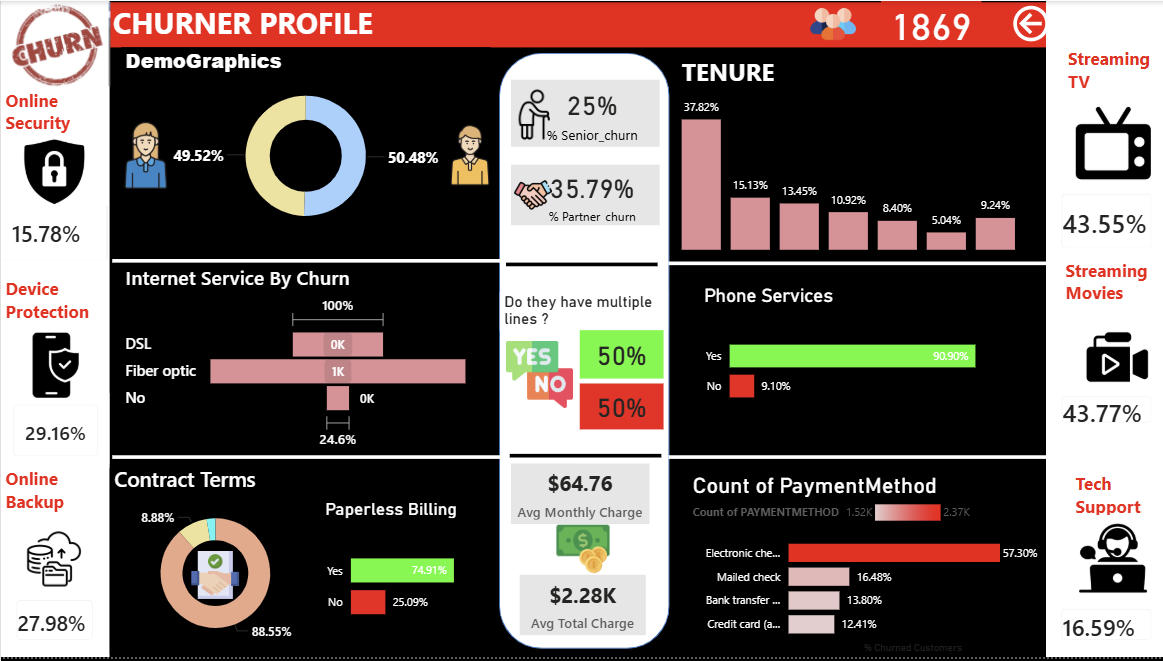

The dashboard page shown, as its layout file describes it:
{"tool":"powerbi","page":{"name":"CHURNER PROFILE","canvas":[1280,720],"ordinal":2},"visuals":[{"type":"textbox","title":"CHURNER PROFILE","box":[118.1,1.3,1161.9,49.6],"z":0},{"type":"card","fields":{"Values":["ChurnDataset.Churned Count"]},"box":[966.2,0,110.6,48.3],"z":1000},{"type":"donutChart","title":"DemoGraphics","fields":{"Category":["ChurnDataset.GENDER"],"Y":["ChurnDataset.Customer Count"]},"box":[132.1,50.1,406,209.1],"z":2000},{"type":"actionButton","box":[1106.1,0,58.5,49.6],"z":3000},{"type":"textbox","box":[0,0,119,800],"z":4000},{"type":"textbox","box":[1146.6,0,133.4,800.2],"z":5000},{"type":"funnel","title":"Internet Service By Churn","fields":{"Category":["ChurnDataset.INTERNETSERVICE"],"Y":["ChurnDataset.Churned Count"]},"box":[131.7,288.3,388.3,208.3],"z":6000},{"type":"donutChart","title":"Contract Terms","fields":{"Category":["ChurnDataset.CONTRACT"],"Y":["ChurnDataset.Total Churned Customers"]},"box":[119.8,508.7,232.3,207.9],"z":7000},{"type":"clusteredBarChart","title":"Phone Services","fields":{"Category":["ChurnDataset.PHONESERVICE"],"Y":["ChurnDataset.% Churned Customers"]},"box":[766.7,311.7,351.7,160],"z":8000},{"type":"barChart","title":"Paperless Billing","fields":{"Category":["ChurnDataset.PAPERLESSBILLING"],"Y":["ChurnDataset.% Churned Customers"]},"box":[351,546.6,188.3,165.1],"z":9000},{"type":"clusteredBarChart","title":"Count of PaymentMethod","fields":{"Category":["ChurnDataset.PAYMENTMETHOD"],"Y":["ChurnDataset.% Churned Customers"]},"box":[755,516.7,388.3,203.3],"z":10000},{"type":"cardVisual","fields":{"Data":["ChurnDataset.% Onlinesec_churn"]},"box":[0,225,116.7,58.3],"z":11000},{"type":"cardVisual","fields":{"Data":["ChurnDataset.% Device_churn"]},"box":[1.5,430.7,117.3,81.7],"z":12000},{"type":"cardVisual","fields":{"Data":["ChurnDataset.% Onlinebackup_churn"]},"box":[0,640.8,118.6,78.3],"z":13000},{"type":"cardVisual","fields":{"Data":["ChurnDataset.% StreamTV_churn"]},"box":[1146.7,195,133.3,93.3],"z":14000},{"type":"cardVisual","fields":{"Data":["ChurnDataset.% Streammovie_churn"]},"box":[1146.7,416.7,133.3,63.3],"z":15000},{"type":"cardVisual","fields":{"Data":["ChurnDataset.% Tech_churn"]},"box":[1146.7,650,133.3,68.3],"z":16000},{"type":"shape","box":[538.3,48.1,204.9,671.9],"z":17000},{"type":"card","fields":{"Values":["ChurnDataset.% Senior_churn"]},"box":[560,86.7,163.3,73.3],"z":18000},{"type":"card","fields":{"Values":["ChurnDataset.% Partner_churn"]},"box":[560,180,163.3,66.7],"z":19000},{"type":"card","fields":{"Values":["ChurnDataset.Avg Monthly Charge"]},"box":[560,508.3,151.7,66.7],"z":20000},{"type":"card","fields":{"Values":["ChurnDataset.Avg Total Charge"]},"box":[570,630,138.3,66.7],"z":21000},{"type":"card","fields":{"Values":["ChurnDataset.% Multiple_no_churn"]},"box":[635.9,419.4,91.7,50.1],"z":22000},{"type":"card","fields":{"Values":["ChurnDataset.% Multiple_yes_churn"]},"box":[635.9,360.7,91.7,53.8],"z":23000},{"type":"image","box":[827.9,0,172.4,50.1],"z":24000},{"type":"image","box":[11,146.7,95.4,80.7],"z":25000},{"type":"image","box":[19.6,358.3,81.9,83.2],"z":26000},{"type":"image","box":[18.3,577.2,80.7,69.7],"z":27000},{"type":"image","box":[481.7,105,66.7,126.7],"z":28000},{"type":"image","box":[121.7,68.3,73.3,201.7],"z":29000},{"type":"image","box":[207.9,599.2,56.3,61.1],"z":30000},{"type":"image","box":[553.3,43.3,65,161.7],"z":31000},{"type":"image","box":[548.3,191.7,70,41.7],"z":32000},{"type":"image","box":[553.9,354.6,73.4,112.5],"z":33000},{"type":"image","box":[548.3,571.7,180,58.3],"z":34000},{"type":"image","box":[1162.6,114.9,117.4,81.9],"z":35000},{"type":"image","box":[1172.4,354.6,107.6,73.4],"z":36000},{"type":"image","box":[1173.9,571.1,95.4,81.9],"z":37000},{"type":"image","box":[3.7,0,116.2,95.4],"z":38000},{"type":"textbox","title":"Online Security","box":[0,95.4,99,56.3],"z":39000},{"type":"textbox","title":"Device Protection","box":[0,303.3,107.6,55],"z":40000},{"type":"textbox","title":"Online Backup","box":[0,512.4,116.2,51.4],"z":41000},{"type":"textbox","title":"Do they have multiple lines ?","box":[547.8,319.2,184.6,41.6],"z":42000},{"type":"textbox","title":"Streaming TV","box":[1166.3,51.4,113.7,46.5],"z":43000},{"type":"textbox","title":"Streaming Movies","box":[1163.8,282.5,116.2,55],"z":44000},{"type":"textbox","title":"Tech Support","box":[1175.1,517.3,92.9,46.5],"z":45000},{"type":"shape","box":[121.7,255,426.7,60],"z":46000},{"type":"shape","box":[121.7,470,426.7,60],"z":47000},{"type":"shape","box":[733.3,470,426.7,60],"z":48000},{"type":"shape","box":[733.3,258.3,426.7,60],"z":49000},{"type":"shape","box":[558.3,481.7,166.7,35],"z":50000},{"type":"shape","box":[555,271.7,166.7,35],"z":51000},{"type":"clusteredColumnChart","title":"TENURE","fields":{"Y":["ChurnDataset.Tenure Churn %"],"Category":["ChurnDataset.TENURE"]},"box":[742.6,58.5,375.9,220.3],"z":52000}]}

Visuals, with their boxes in screenshot pixels (x1, y1, x2, y2), scaled from the page's 1280x720 canvas onto the 1163x661 screenshot:
"CHURNER PROFILE" textbox: [107, 1, 1162, 47]
card - ChurnDataset.Churned Count: [878, 0, 978, 44]
"DemoGraphics" donutChart: [120, 46, 489, 238]
actionButton: [1005, 0, 1058, 46]
textbox: [0, 0, 108, 660]
textbox: [1042, 0, 1162, 660]
"Internet Service By Churn" funnel: [120, 265, 472, 456]
"Contract Terms" donutChart: [109, 467, 320, 658]
"Phone Services" clusteredBarChart: [697, 286, 1016, 433]
"Paperless Billing" barChart: [319, 502, 490, 653]
"Count of PaymentMethod" clusteredBarChart: [686, 474, 1039, 660]
cardVisual - ChurnDataset.% Onlinesec_churn: [0, 207, 106, 260]
cardVisual - ChurnDataset.% Device_churn: [1, 395, 108, 470]
cardVisual - ChurnDataset.% Onlinebackup_churn: [0, 588, 108, 660]
cardVisual - ChurnDataset.% StreamTV_churn: [1042, 179, 1162, 265]
cardVisual - ChurnDataset.% Streammovie_churn: [1042, 383, 1162, 441]
cardVisual - ChurnDataset.% Tech_churn: [1042, 597, 1162, 659]
shape: [489, 44, 675, 660]
card - ChurnDataset.% Senior_churn: [509, 80, 657, 147]
card - ChurnDataset.% Partner_churn: [509, 165, 657, 226]
card - ChurnDataset.Avg Monthly Charge: [509, 467, 647, 528]
card - ChurnDataset.Avg Total Charge: [518, 578, 644, 640]
card - ChurnDataset.% Multiple_no_churn: [578, 385, 661, 431]
card - ChurnDataset.% Multiple_yes_churn: [578, 331, 661, 381]
image: [752, 0, 909, 46]
image: [10, 135, 97, 209]
image: [18, 329, 92, 405]
image: [17, 530, 90, 594]
image: [438, 96, 498, 213]
image: [111, 63, 177, 248]
image: [189, 550, 240, 606]
image: [503, 40, 562, 188]
image: [498, 176, 562, 214]
image: [503, 326, 570, 429]
image: [498, 525, 662, 578]
image: [1056, 105, 1162, 181]
image: [1065, 326, 1162, 393]
image: [1067, 524, 1153, 599]
image: [3, 0, 109, 88]
"Online Security" textbox: [0, 88, 90, 139]
"Device Protection" textbox: [0, 278, 98, 329]
"Online Backup" textbox: [0, 470, 106, 518]
"Do they have multiple lines ?" textbox: [498, 293, 665, 331]
"Streaming TV" textbox: [1060, 47, 1162, 90]
"Streaming Movies" textbox: [1057, 259, 1162, 310]
"Tech Support" textbox: [1068, 475, 1152, 518]
shape: [111, 234, 498, 289]
shape: [111, 431, 498, 487]
shape: [666, 431, 1054, 487]
shape: [666, 237, 1054, 292]
shape: [507, 442, 659, 474]
shape: [504, 249, 656, 282]
"TENURE" clusteredColumnChart: [675, 54, 1016, 256]
